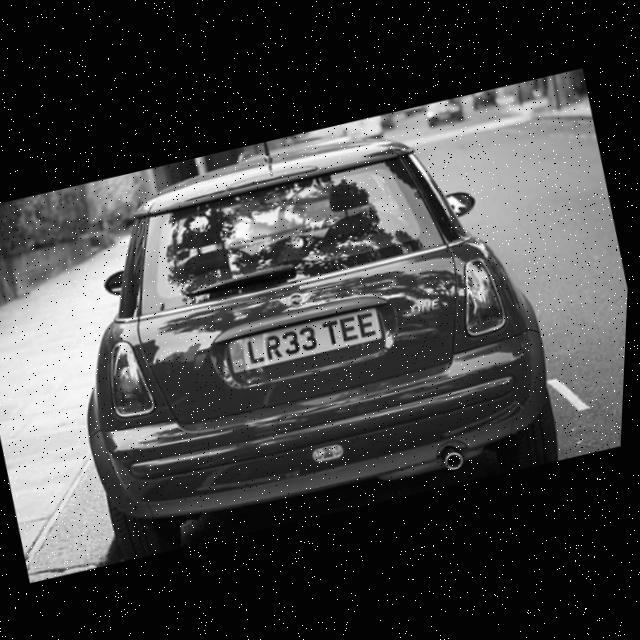license-plates: (228, 307, 382, 372)
